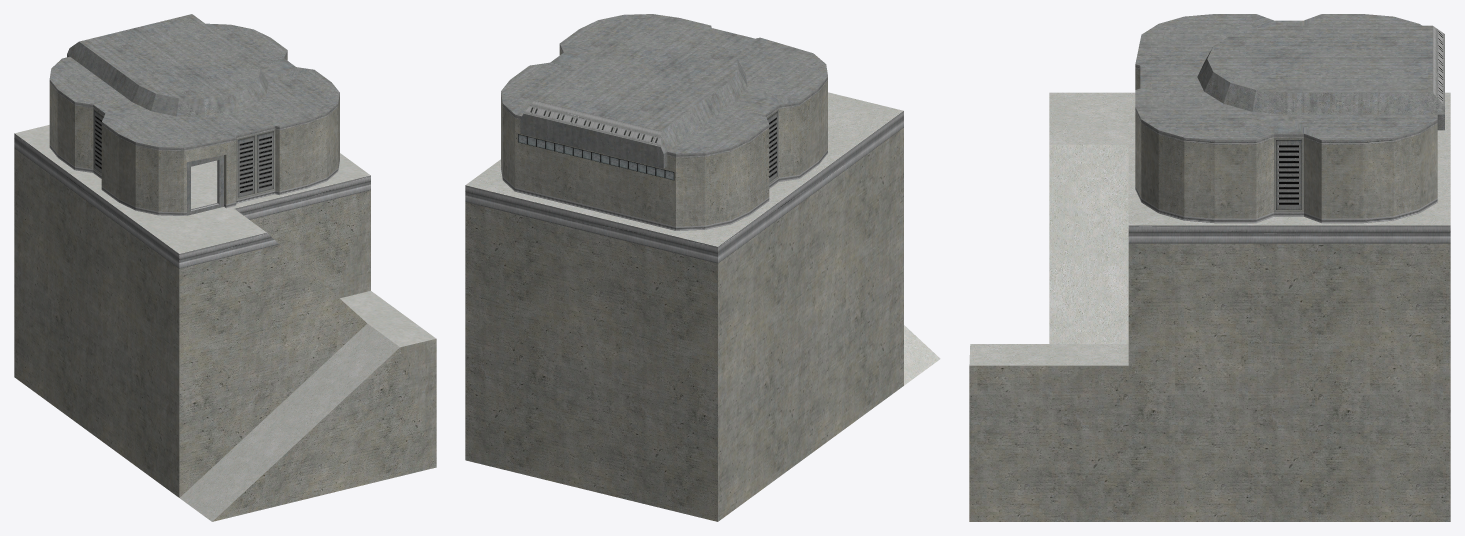
File: ply_all_house_sm_s02_fp1_r0_mesh_l1.fbx
The picture shows the model from 3 angles, left to right: view 1: azimuth 30°, elevation 25°; view 2: azimuth 150°, elevation 25°; view 3: azimuth 270°, elevation 25°; orthographic projection. The views are drawn at different scales.
Visible parts, largest first — view 1: mesh_node; view 2: mesh_node; view 3: mesh_node.
Part boxes in pixels (box(x1,y1,x2,y2)): mesh_node: box(14, 14, 436, 521); mesh_node: box(465, 14, 940, 521); mesh_node: box(969, 14, 1450, 521).
Bounding box in the file's own units: 15.87 × 22.12 × 24.27.
